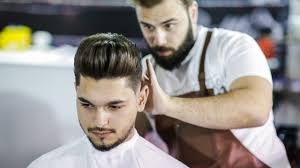middle_eastern_male: (71, 57, 144, 150), (135, 1, 197, 60)
